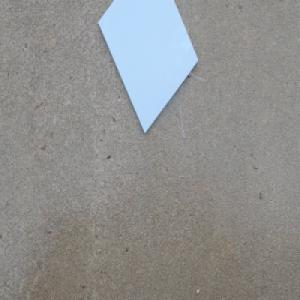PaintChip: (97, 0, 200, 135)
